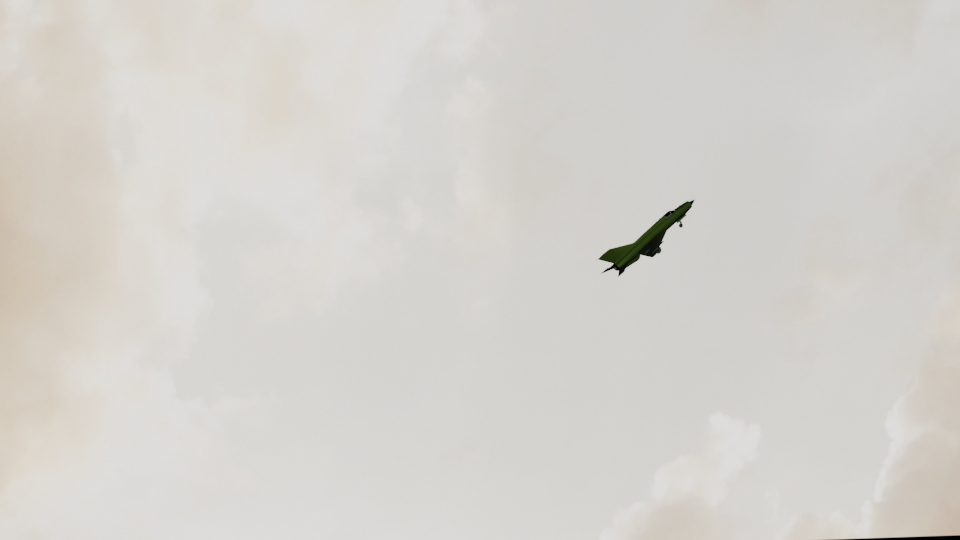plane: (597, 197, 696, 277)
